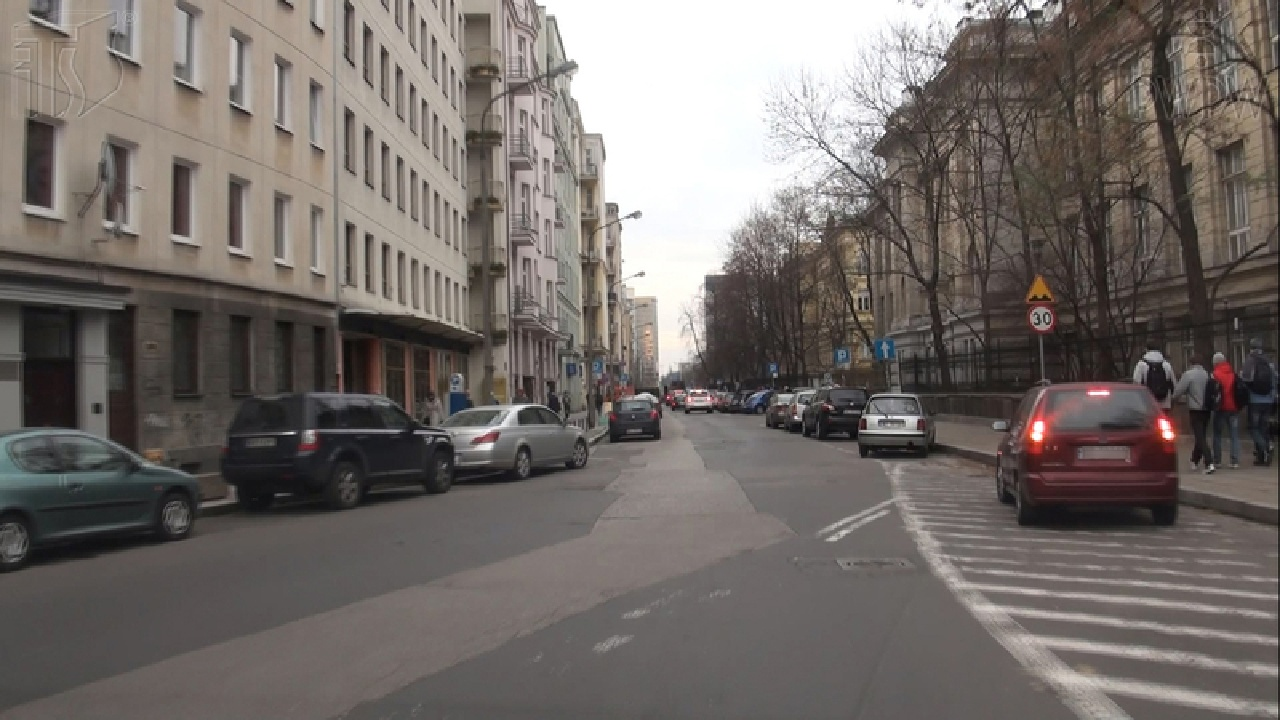A11: (1024, 274, 1055, 303)
B33_30: (1026, 304, 1058, 333)
D3: (875, 339, 894, 359)
